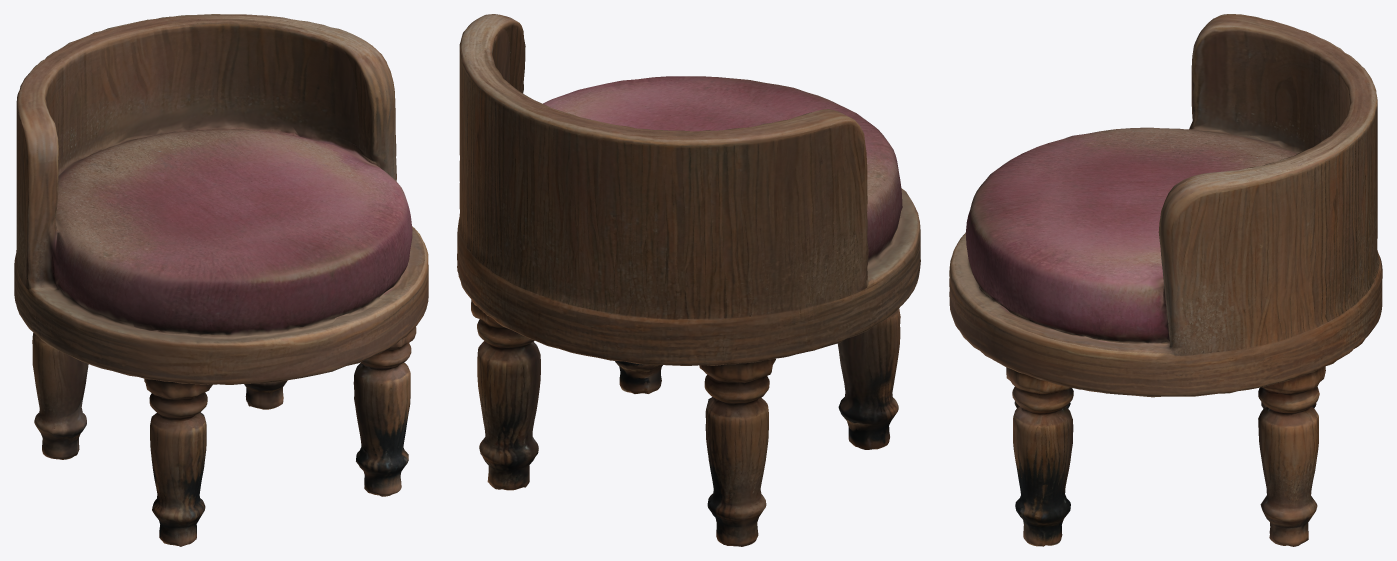
The model's file is Furn_VanityChair.fbx.
3 renders of one model, left to right at view 1: azimuth 30°, elevation 25°; view 2: azimuth 150°, elevation 25°; view 3: azimuth 270°, elevation 25°, orthographic. The views are drawn at different scales.
Visible parts, largest first — view 1: texture_mapping; view 2: texture_mapping; view 3: texture_mapping.
Part boxes in pixels (x1,y1,x2,y2): texture_mapping: (14, 14, 428, 546); texture_mapping: (457, 14, 920, 546); texture_mapping: (949, 14, 1382, 546).
Size of the model in its own units: 1 by 1 by 0.9958.
1 material, 1 textured.
